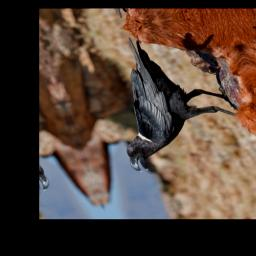Crow: (81, 22, 254, 175)
